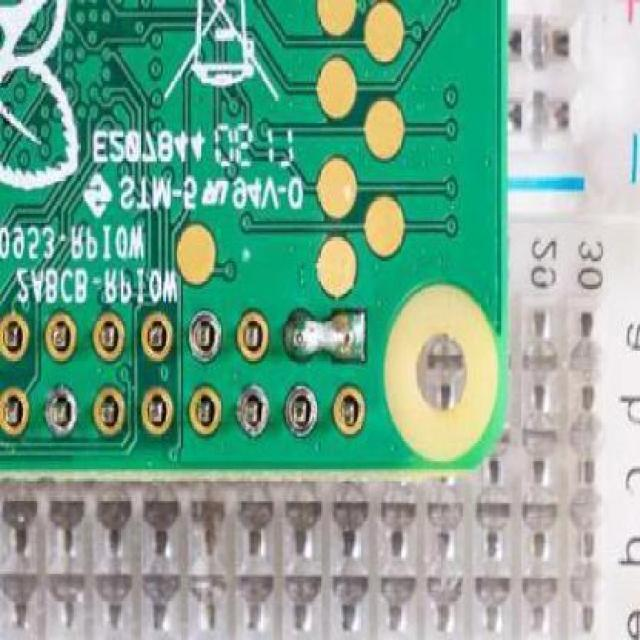Soldering shorted: (284, 306, 366, 377)
